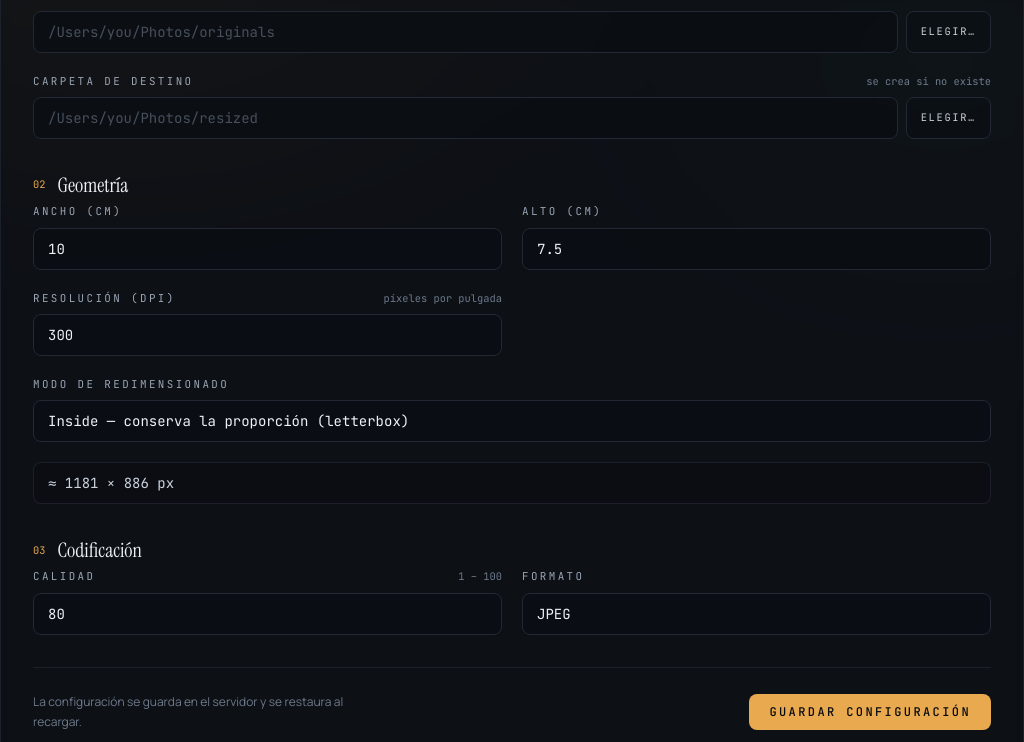
Test: ConfigForm › shows inline errors and blocks saving when paths are empty
(page scrolled)
Click the button "Guardar configuración" at (870, 712), box [749, 694, 991, 730]
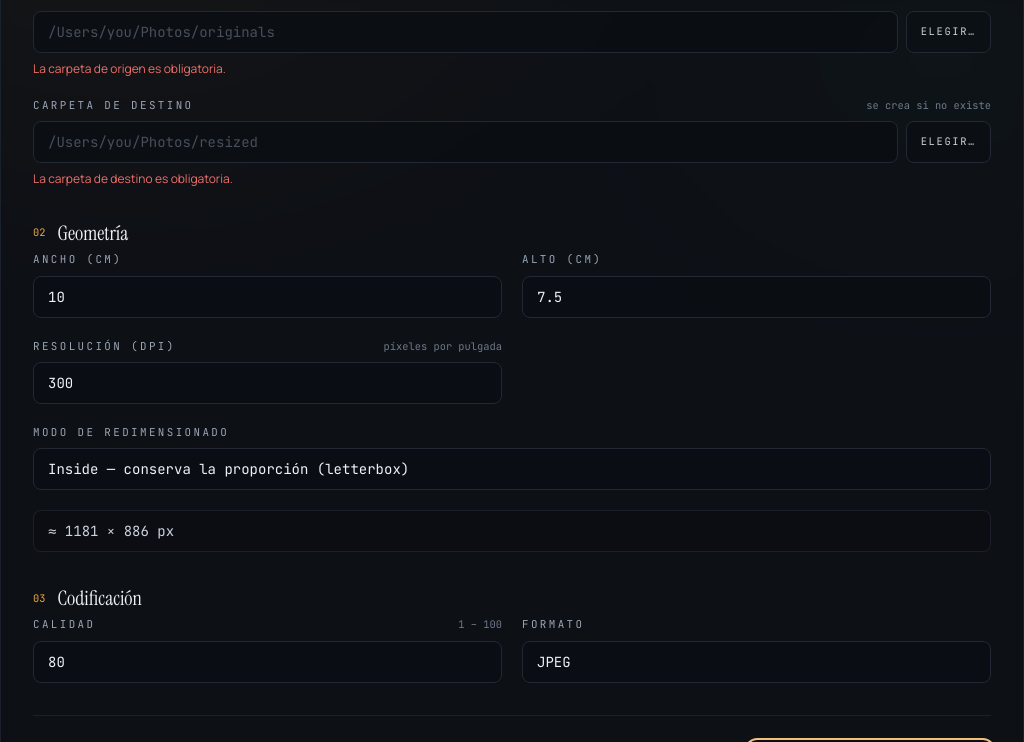
Result: the text "La carpeta de origen es obligatoria." is shown at [33, 60, 226, 77]
Result: the text "La carpeta de destino es obligatoria." is shown at [33, 170, 233, 187]
